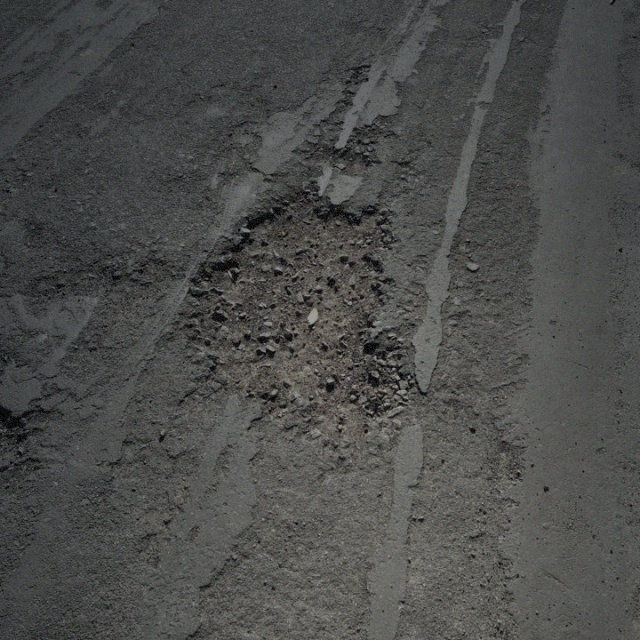pothole: (180, 187, 417, 446)
